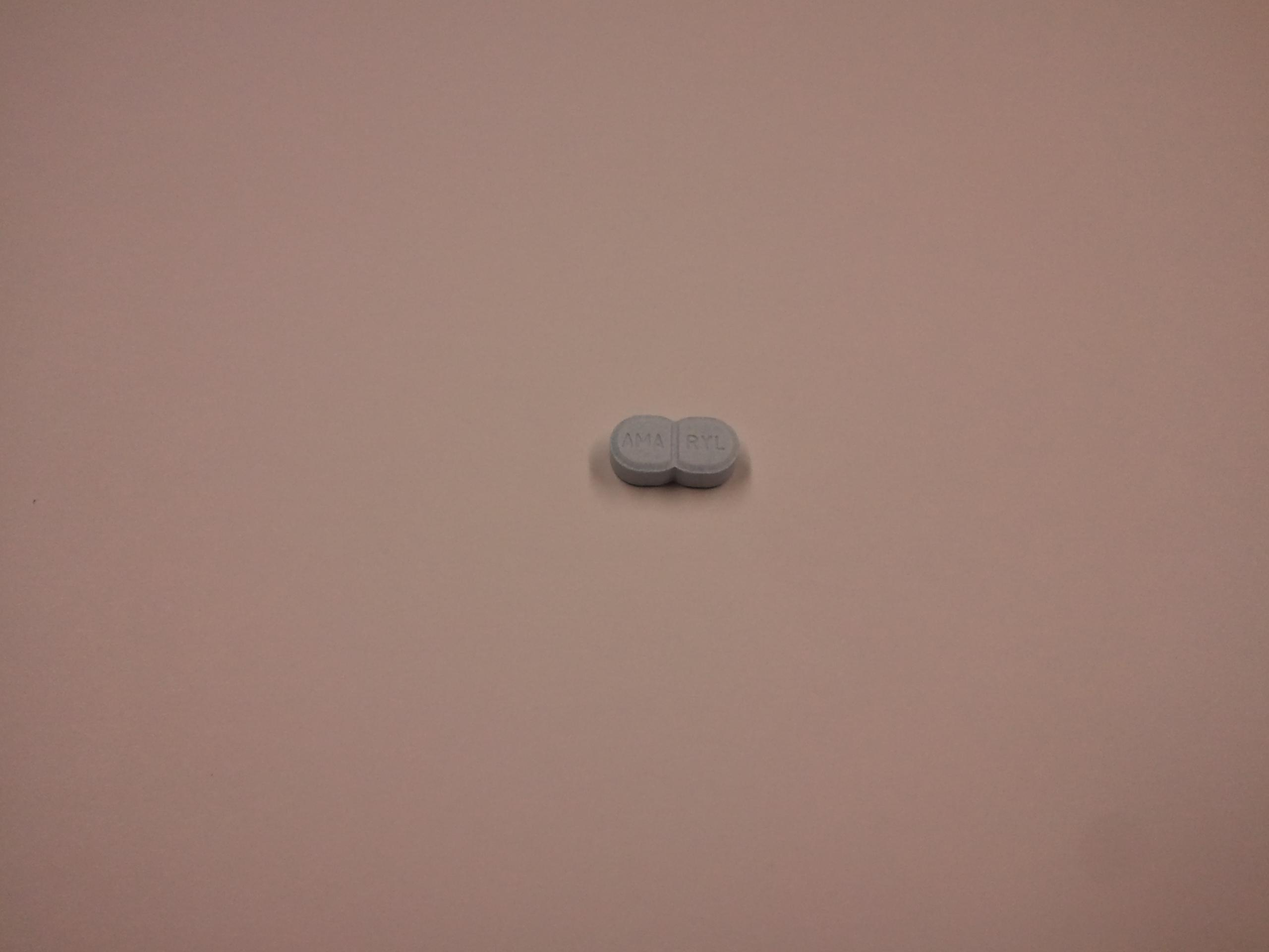Pill: (585, 393, 754, 505)
